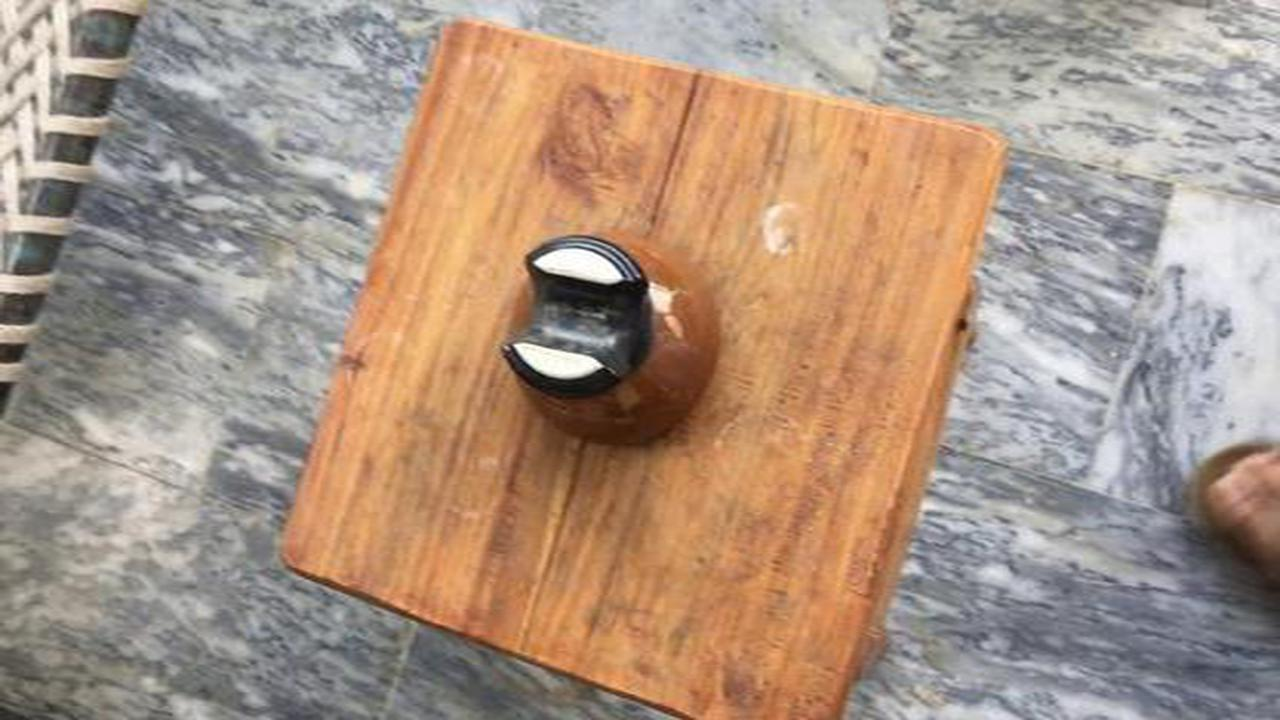insulator_pin: (487, 224, 751, 463)
